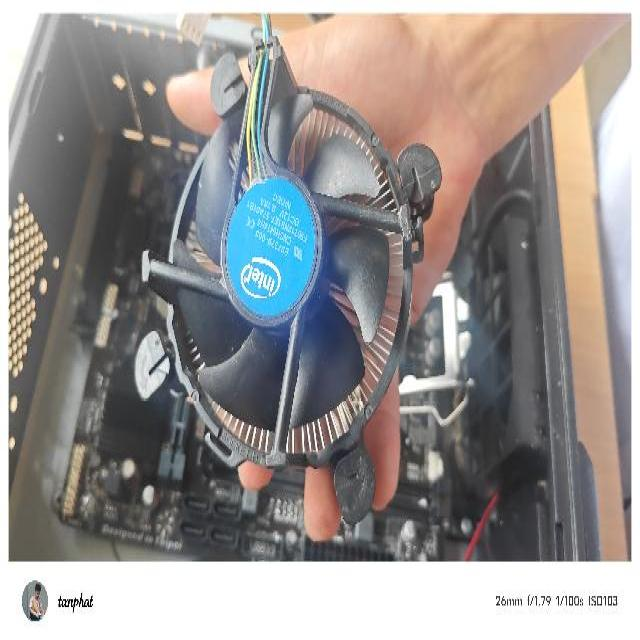CPU_Fan: (130, 26, 443, 529)
